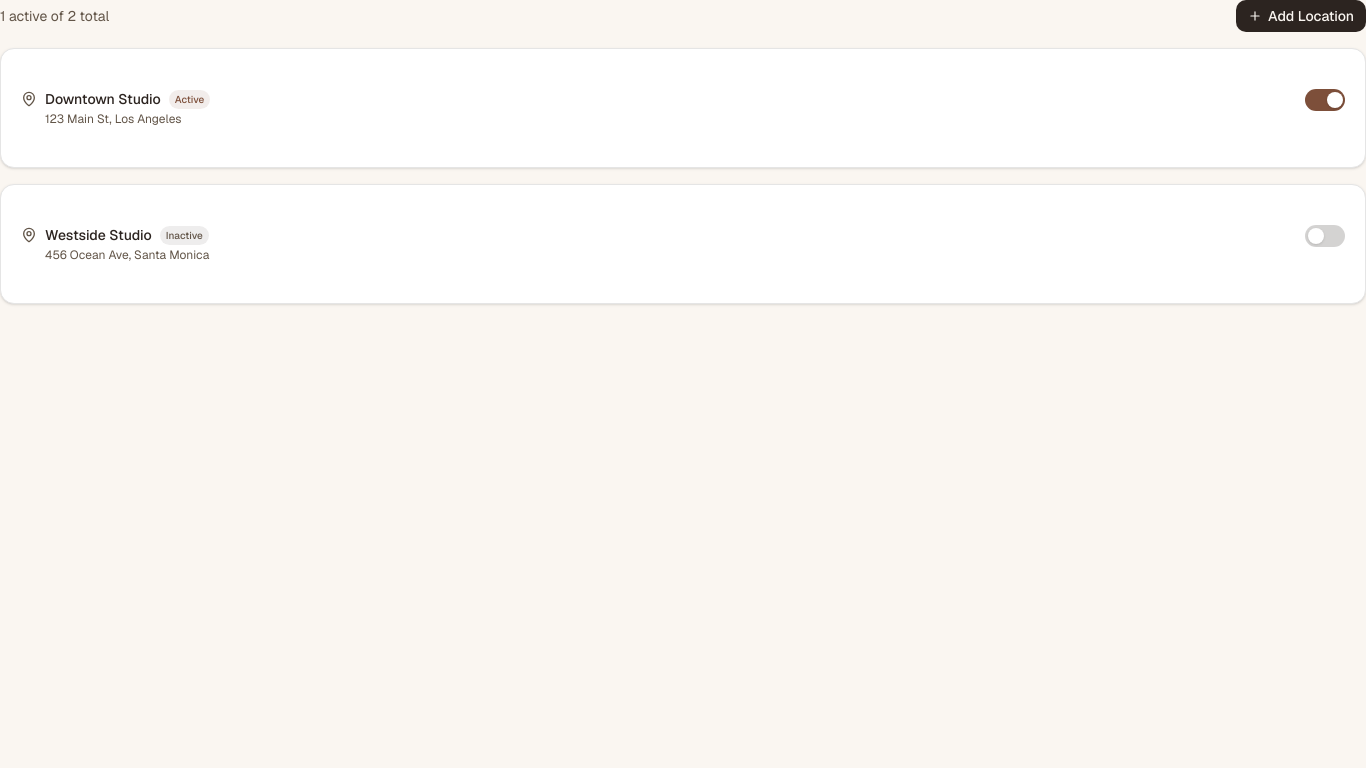
Test case: LocationsTab › add dialog › closes on Cancel
Click the button "Add Location" at (1301, 16), box [1236,0,1365,32]
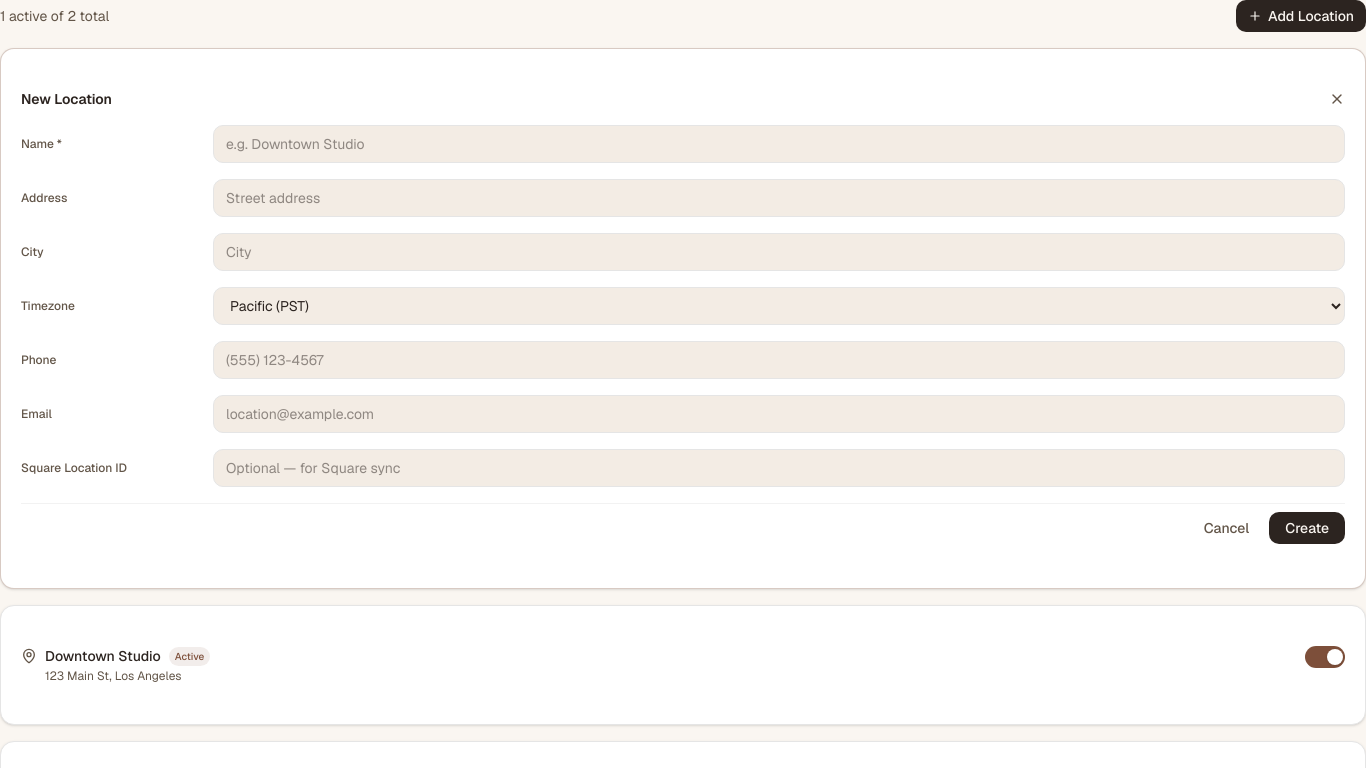
Expected: the heading "New Location" is shown, [21,89,112,109]
Click the button "Cancel" at (1226, 528), box [1192,512,1261,544]
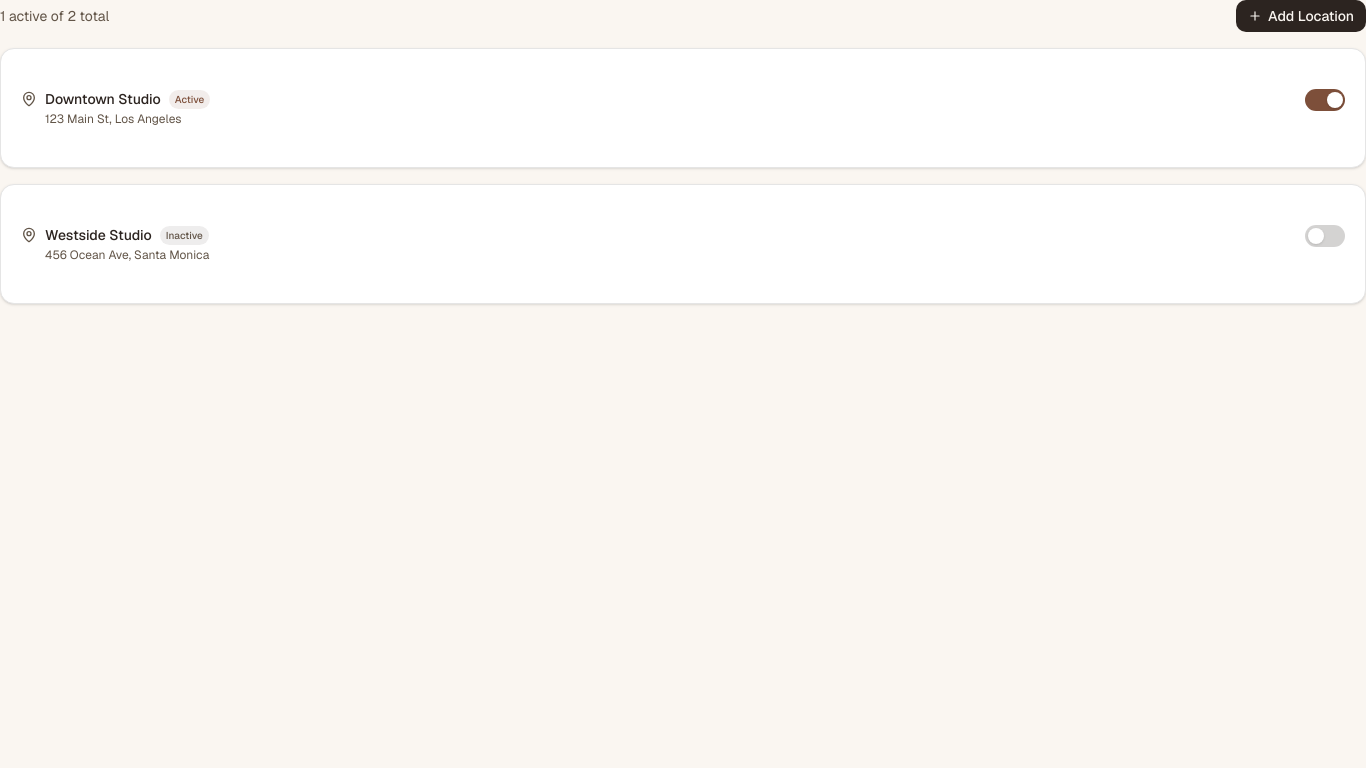
Expected: the heading "New Location" is gone
